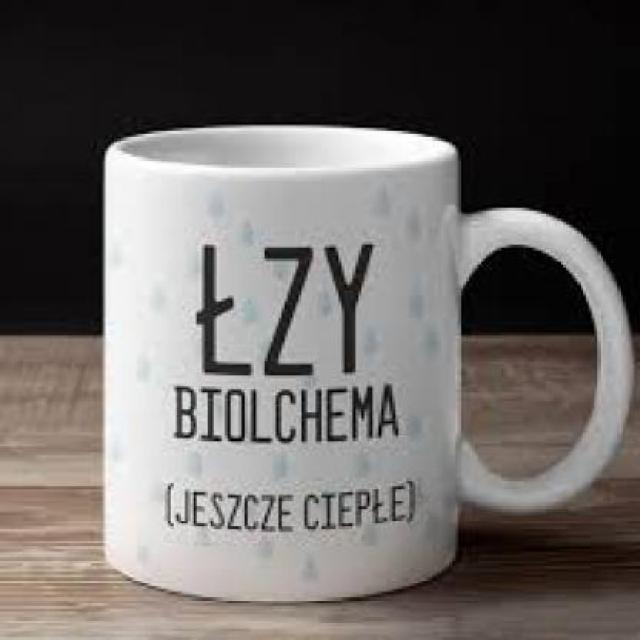cup: (97, 122, 635, 605)
